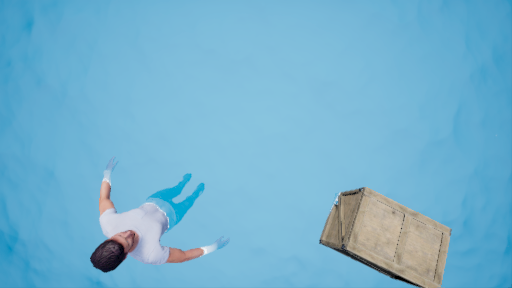person: (81, 160, 221, 278)
